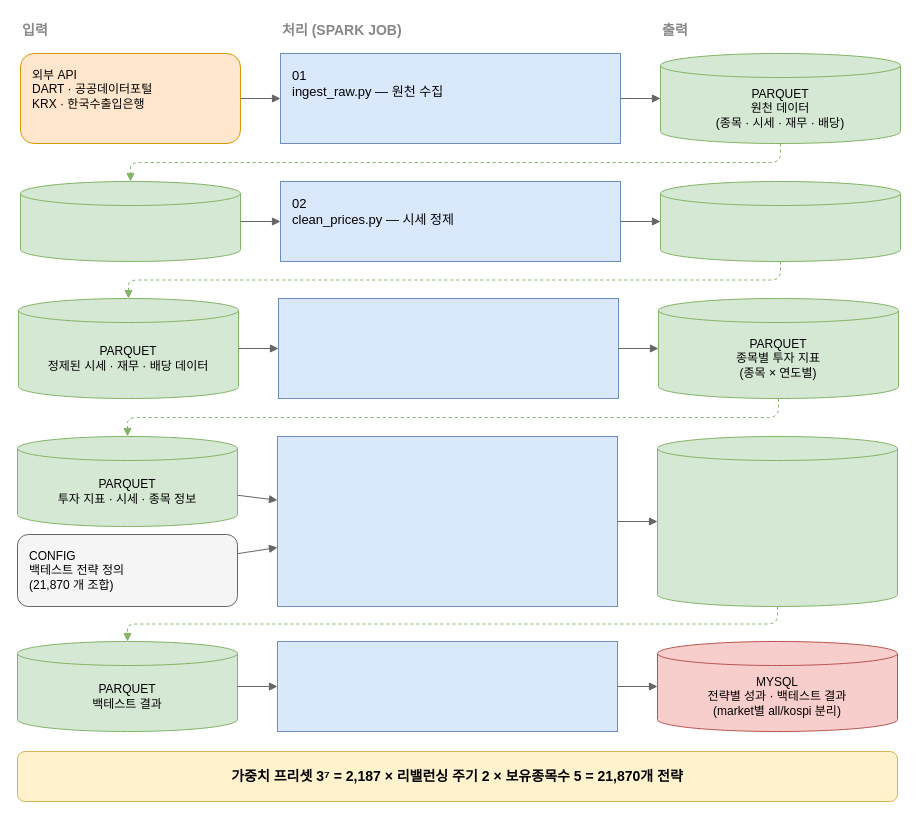
Image size: 918x819. Some labels were removed from this diagram. The centre of each missing label's shape, as x and y in pixels:
"03 build_indicators.py — 지표 계산" belongs at point 448,348.
"04 backtest_grid.py — 백테스트 (핵심)" belongs at point 447,521.
"05 export_to_mysql.py — 서빙" belongs at point 447,686.
"PARQUET 원천 시세 데이터 (당일 스냅샷)" belongs at point 130,221.
"PARQUET 전략별 백테스트 결과 (21,870개 전략, 구간별 수익률 포함)" belongs at point 777,521.
"PARQUET 정제된 시세 데이터" belongs at point 780,221.
